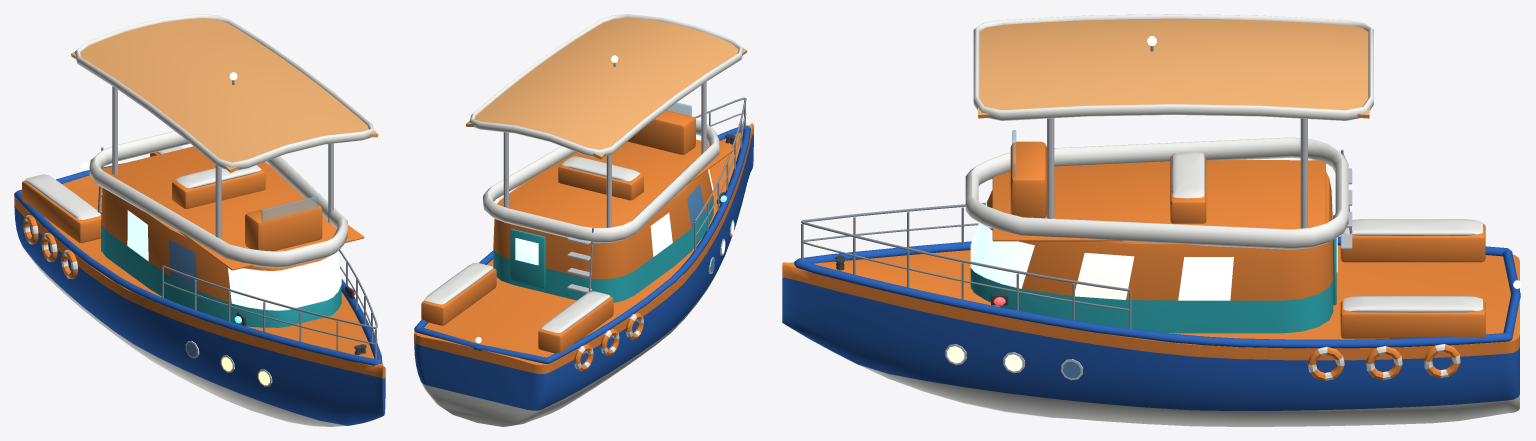
The model's file is barco_passeio_azul.glb.
The picture shows the model from 3 angles, left to right: view 1: azimuth 30°, elevation 25°; view 2: azimuth 150°, elevation 25°; view 3: azimuth 270°, elevation 25°; orthographic projection. The views are drawn at different scales.
Parts seen in each view (by area): view 1: barco_passeio_azul; view 2: barco_passeio_azul, porta_casa; view 3: barco_passeio_azul.
Boxes of the visible parts, x1=… form: barco_passeio_azul: x1=14, y1=14, x2=385, y2=426; barco_passeio_azul: x1=414, y1=14, x2=753, y2=426; porta_casa: x1=510, y1=228, x2=545, y2=287; barco_passeio_azul: x1=782, y1=14, x2=1521, y2=426.
Bounding box in the file's own units: 3.78 × 5.69 × 10.2.
8 materials, 1 textured.
